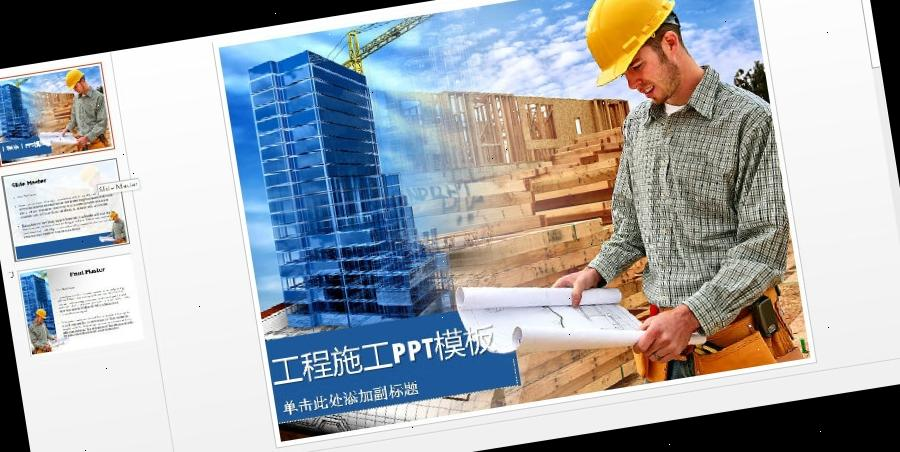helmet: (567, 0, 694, 89), (62, 68, 88, 86)
no_wear: (617, 86, 794, 338)
